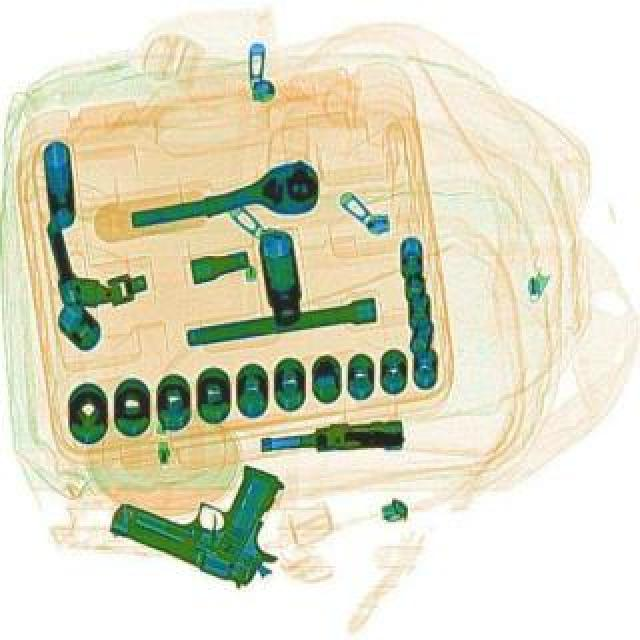gun: (100, 424, 312, 592)
